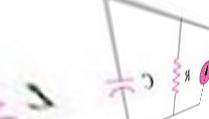resistor: (168, 52, 182, 96)
